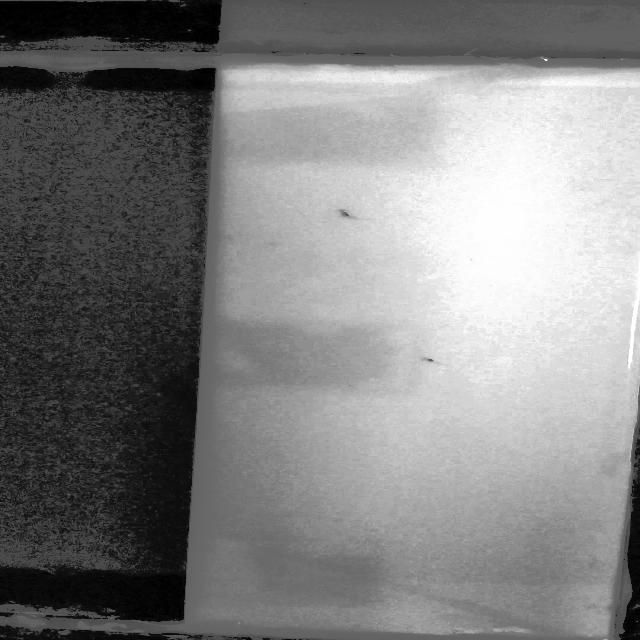shrimp: (326, 205, 365, 224), (411, 352, 448, 371)
